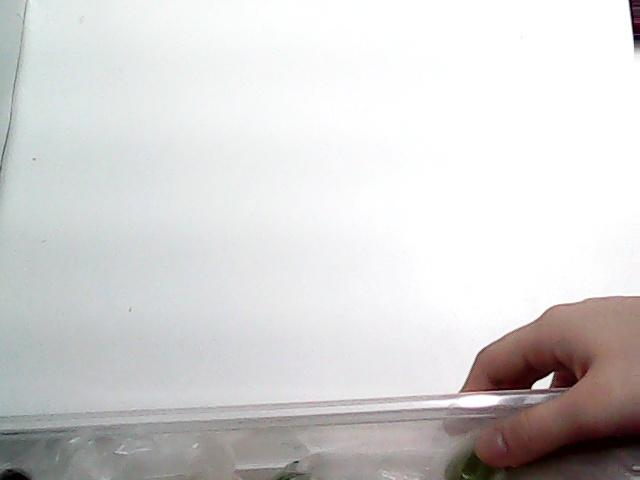radish: (272, 450, 448, 478)
